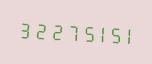five: (73, 19, 86, 44), (101, 21, 114, 45)
one: (87, 20, 100, 45), (115, 22, 128, 46)
seven: (59, 19, 72, 43)
three: (17, 16, 30, 41)
two: (31, 17, 44, 42), (45, 18, 58, 43)
